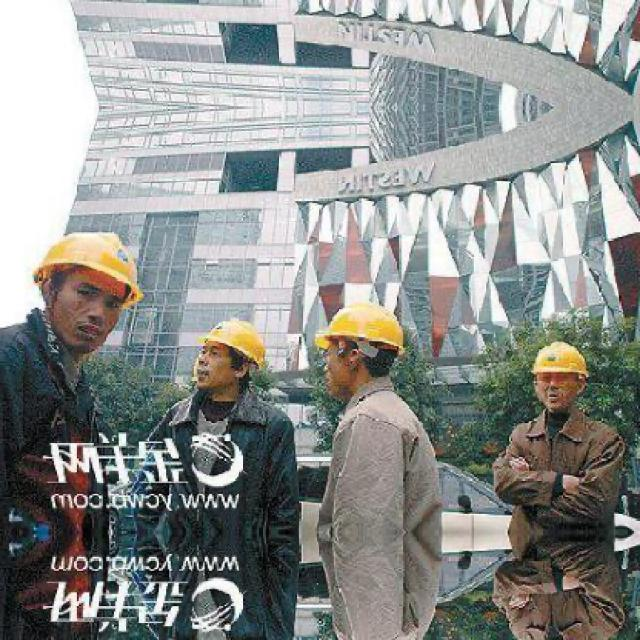helmet: (28, 223, 149, 360), (316, 296, 410, 402), (189, 312, 268, 397), (529, 334, 597, 415)
